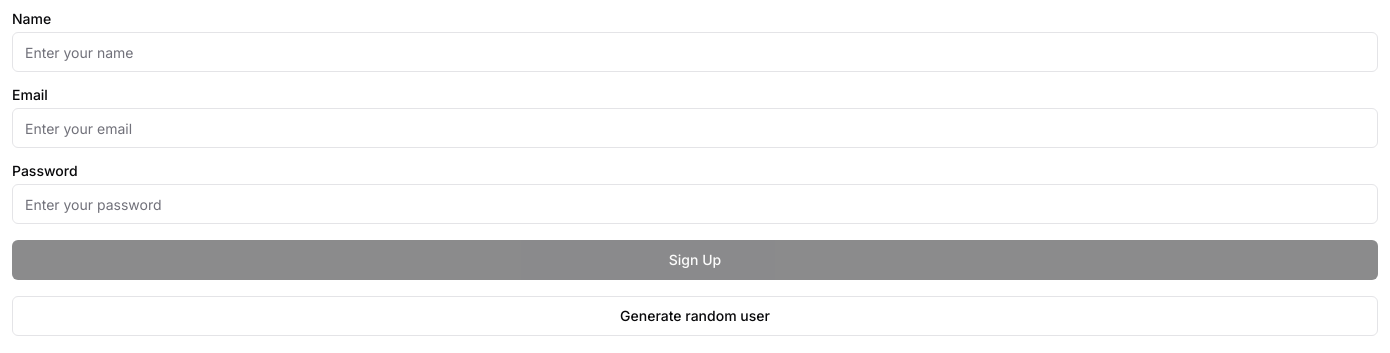
Scenario: SignUpForm › generates a random user and fills the form
Click the button "Generate random user" at (695, 316), box [12,296,1378,336]
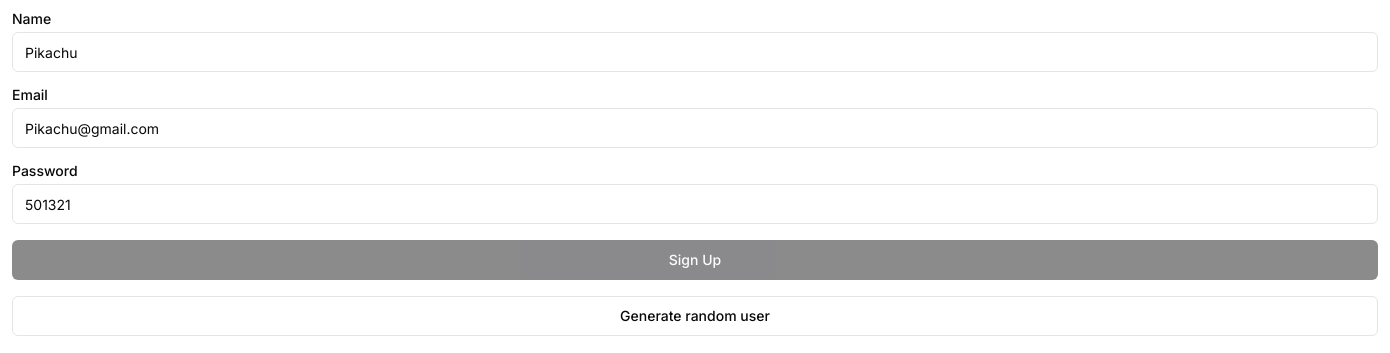
Expected: the field showing "Pikachu" is shown, [12,32,1378,72]
Expected: the field showing "Pikachu@gmail.com" below "Email" is shown, [12,108,1378,148]
